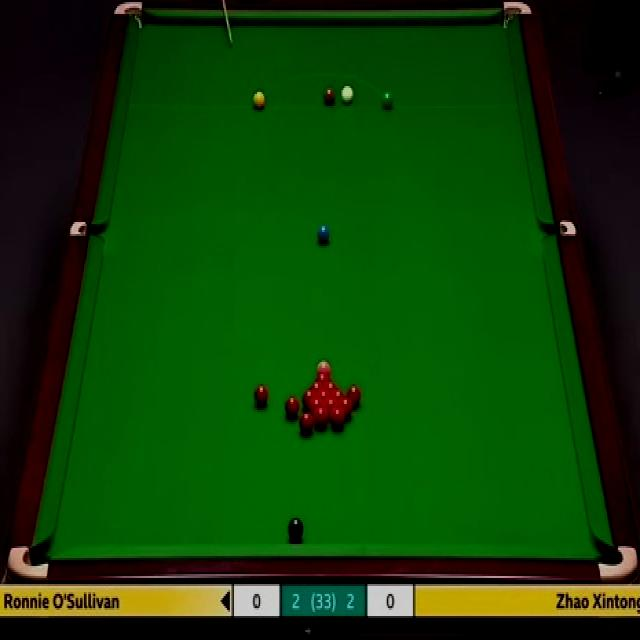black-ball: (286, 514, 304, 538)
blue-ball: (316, 225, 331, 242)
brown-ball: (324, 88, 335, 106)
green-ball: (380, 88, 395, 110)
pink-ball: (316, 363, 332, 378)
red-ball: (298, 412, 314, 436), (284, 394, 300, 417), (253, 384, 269, 406), (338, 397, 354, 419), (302, 389, 318, 410), (332, 406, 346, 428), (312, 407, 328, 426), (347, 386, 361, 407), (326, 379, 339, 399), (310, 382, 325, 394)
white-ball: (341, 83, 354, 105)
yellow-ball: (253, 90, 265, 110)
